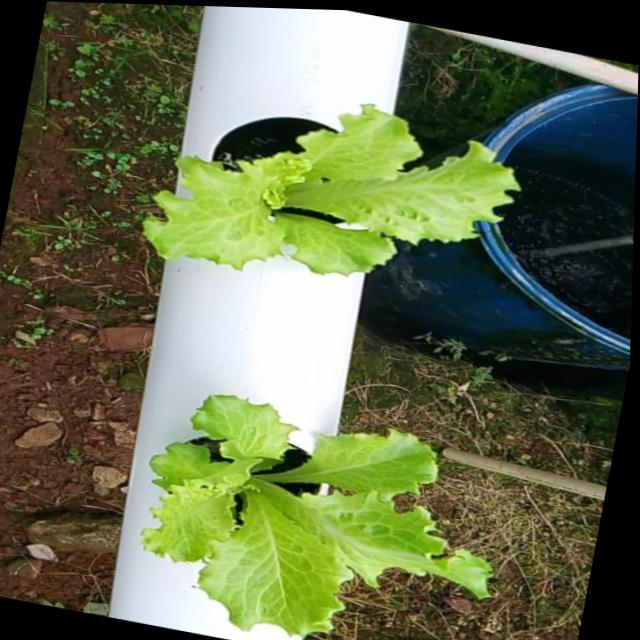Baby: (141, 394, 493, 635), (145, 99, 522, 271)
